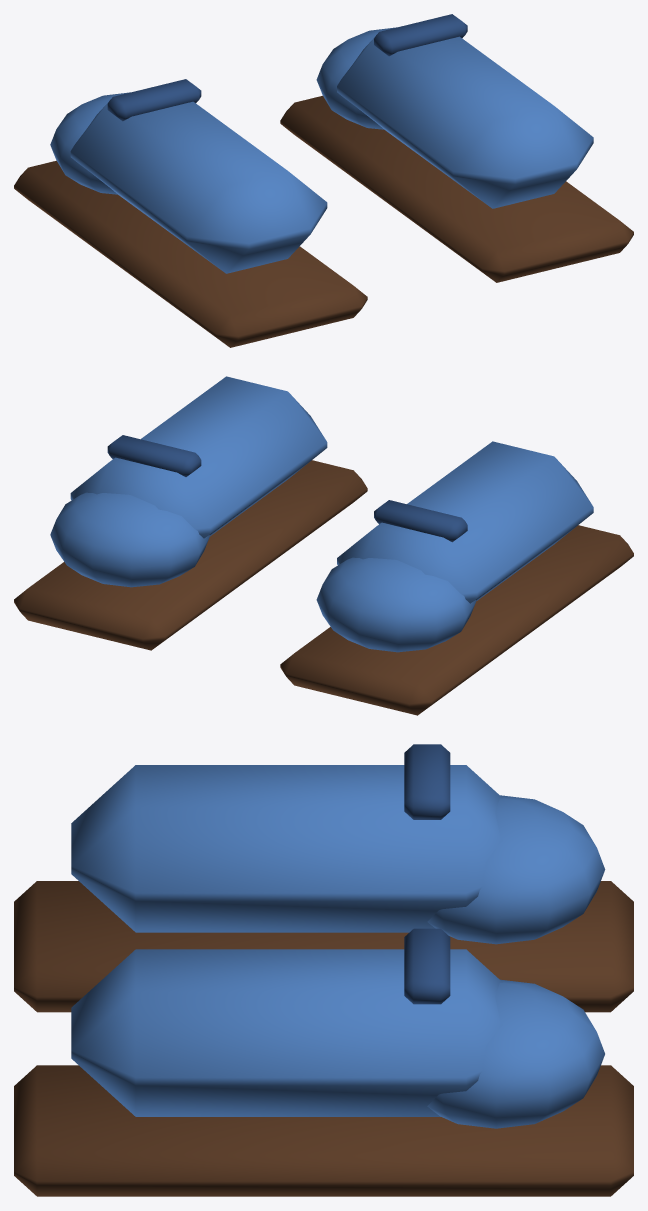
Rendered from shoes_loafers.glb.
The picture shows the model from 3 angles, top to bottom: view 1: azimuth 30°, elevation 25°; view 2: azimuth 150°, elevation 25°; view 3: azimuth 270°, elevation 25°; orthographic projection. The views are drawn at different scales.
Parts seen in each view (by area): view 1: ShinR, ShinL; view 2: ShinR, ShinL; view 3: ShinR, ShinL.
Part boxes in pixels (bbox=[...]): ShinR: bbox=[280, 14, 633, 282]; ShinL: bbox=[14, 79, 367, 347]; ShinR: bbox=[14, 376, 367, 650]; ShinL: bbox=[280, 441, 633, 715]; ShinR: bbox=[14, 928, 633, 1196]; ShinL: bbox=[14, 744, 633, 1012].
Bounding box in the file's own units: 0.298 × 0.096 × 0.27.
